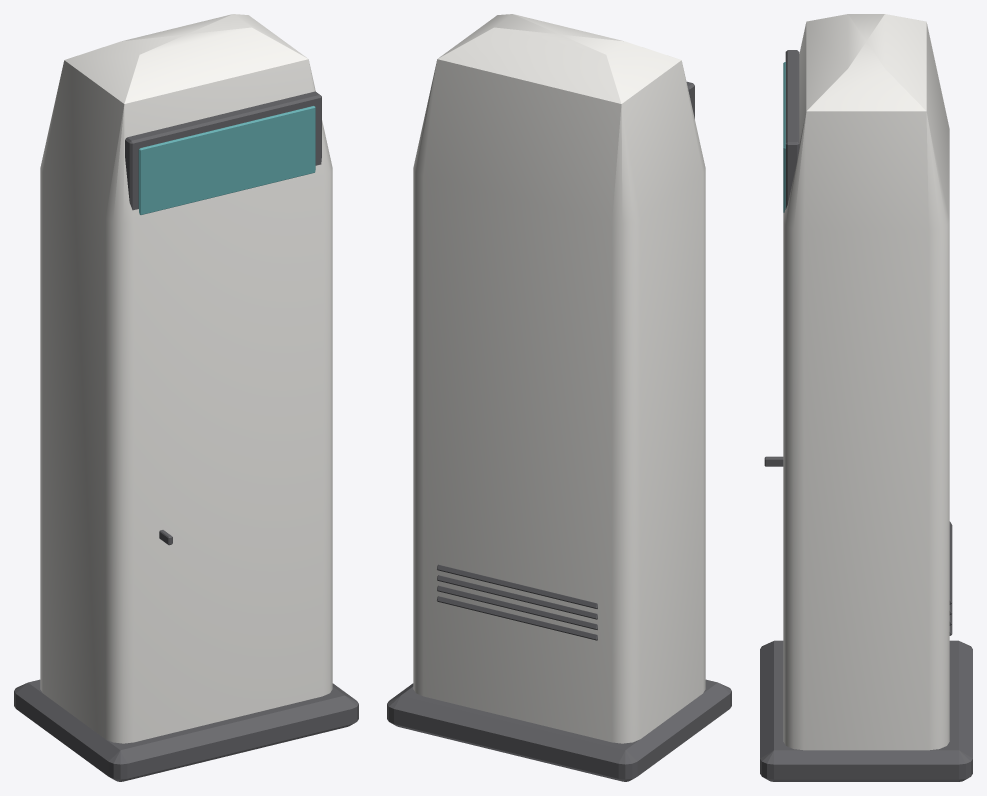
Rendered from fast-food-and-drive-thru-self-order-kiosk-floor-272961e1.glb.
3 renders of one model, left to right at view 1: azimuth 30°, elevation 25°; view 2: azimuth 150°, elevation 25°; view 3: azimuth 270°, elevation 25°, orthographic.
Parts seen in each view (by area): view 1: self-order-kiosk-floor; view 2: self-order-kiosk-floor; view 3: self-order-kiosk-floor.
Boxes of the visible parts, x1,y1,x2,y2 form: self-order-kiosk-floor: (14, 14, 358, 781); self-order-kiosk-floor: (387, 14, 731, 781); self-order-kiosk-floor: (760, 14, 972, 781).
Size of the model in its own units: 0.6201 by 1.63 by 0.46.
